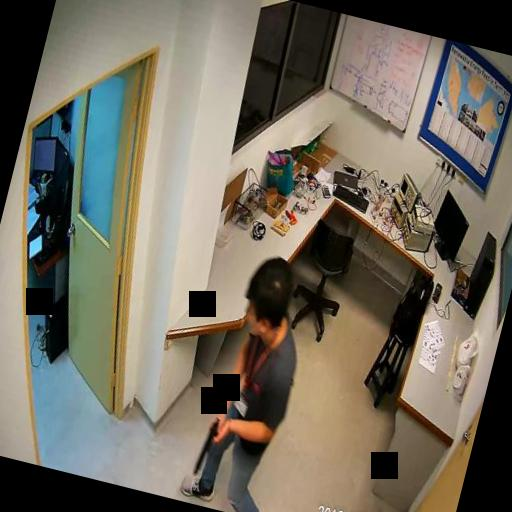Handgun: (190, 412, 222, 478)
